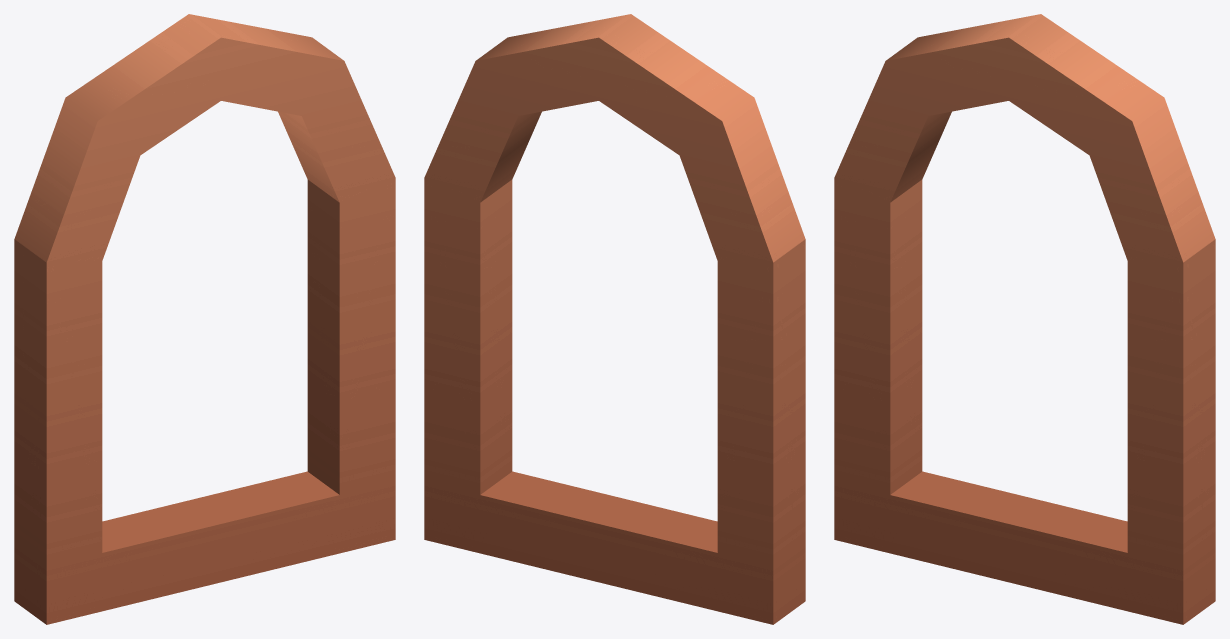
3 views of the same model, side by side, from view 1: azimuth 30°, elevation 25°; view 2: azimuth 150°, elevation 25°; view 3: azimuth 330°, elevation 25° (orthographic).
Parts seen in each view (by area): view 1: window-brown-round-wide; view 2: window-brown-round-wide; view 3: window-brown-round-wide.
Boxes of the visible parts, left/top/right/bottom form: window-brown-round-wide: left=14, top=14, right=395, bottom=624; window-brown-round-wide: left=424, top=14, right=805, bottom=624; window-brown-round-wide: left=834, top=14, right=1215, bottom=624.
Bounding box in the file's own units: 0.3125 × 0.4662 × 0.05.
Materials: 1 (1 with a texture image).
